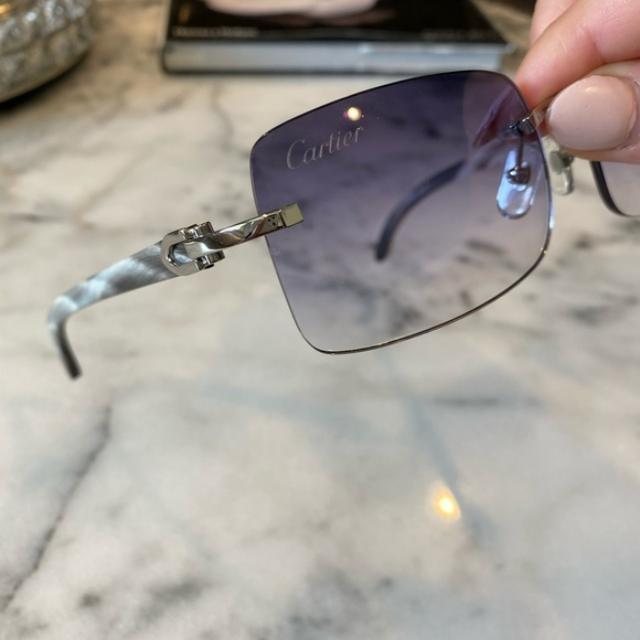sunglasses: (41, 68, 640, 384)
